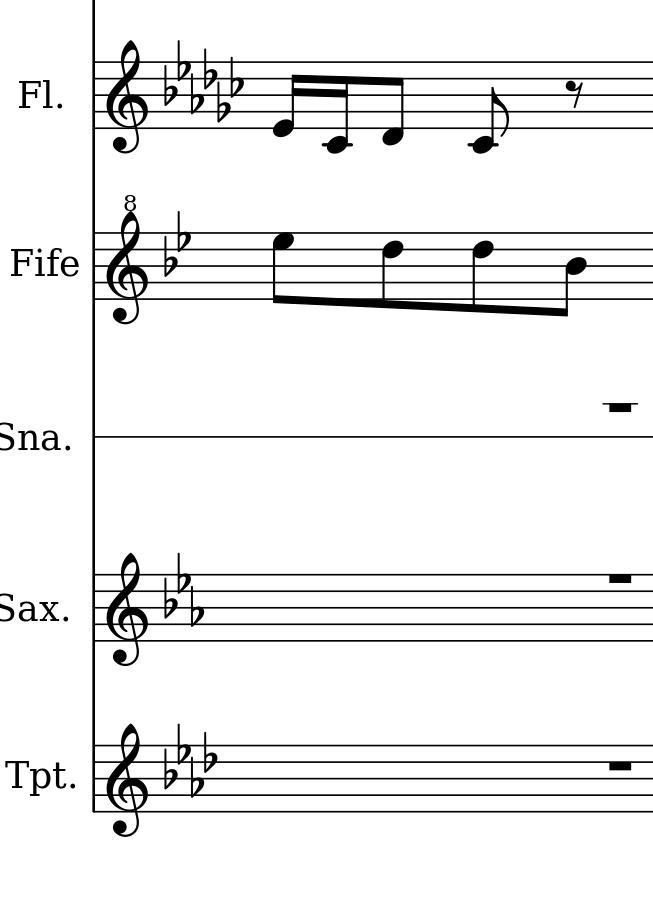16_-2: (321, 60, 351, 159)
16_0: (270, 59, 305, 139)
8_-1: (380, 59, 407, 148)
8_-2: (468, 59, 510, 155)
8_4: (553, 230, 587, 318)
8_6: (470, 231, 495, 316), (379, 231, 404, 312)
8_7: (270, 231, 295, 307)
A_F: (163, 721, 220, 798)
B_F: (160, 209, 192, 276)
E_F: (165, 550, 202, 627)
Fl: (15, 76, 54, 113)
G_F: (162, 38, 245, 125)
Gclef: (104, 38, 153, 157), (104, 550, 151, 667), (104, 722, 150, 839)
High_Gclef: (105, 194, 147, 325)
Rests1: (604, 756, 638, 775), (604, 570, 636, 588), (605, 399, 634, 416)
Rests8: (563, 78, 586, 109)
Sax: (1, 589, 61, 628)
Single_barline: (88, 574, 101, 643), (88, 744, 101, 813), (89, 61, 101, 131), (88, 233, 100, 300)
Tpt: (3, 755, 66, 799)
